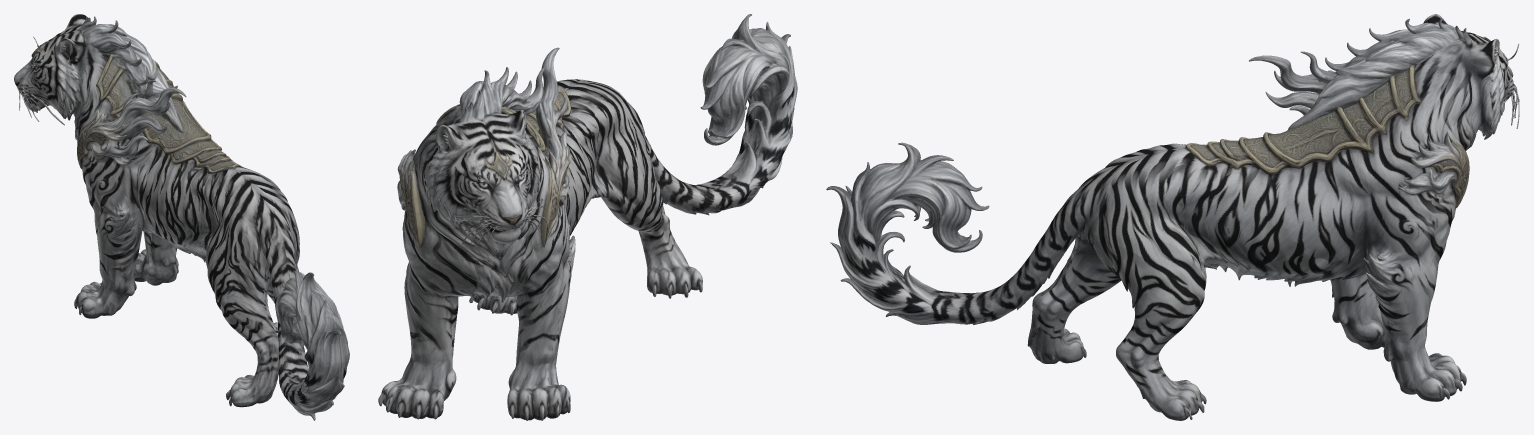
File: tiger-web.glb
3 views of the same model, side by side, from view 1: azimuth 30°, elevation 25°; view 2: azimuth 150°, elevation 25°; view 3: azimuth 270°, elevation 25° (orthographic). The views are drawn at different scales.
Visible parts, largest first — view 1: Object_01; view 2: Object_01; view 3: Object_01.
Boxes of the visible parts, left/top/right/bottom form: Object_01: left=14, top=14, right=349, bottom=420; Object_01: left=378, top=14, right=797, bottom=420; Object_01: left=826, top=14, right=1519, bottom=420.
Size of the model in its own units: 0.6532 by 1 by 1.83.
Materials: 1 (1 with a texture image).
